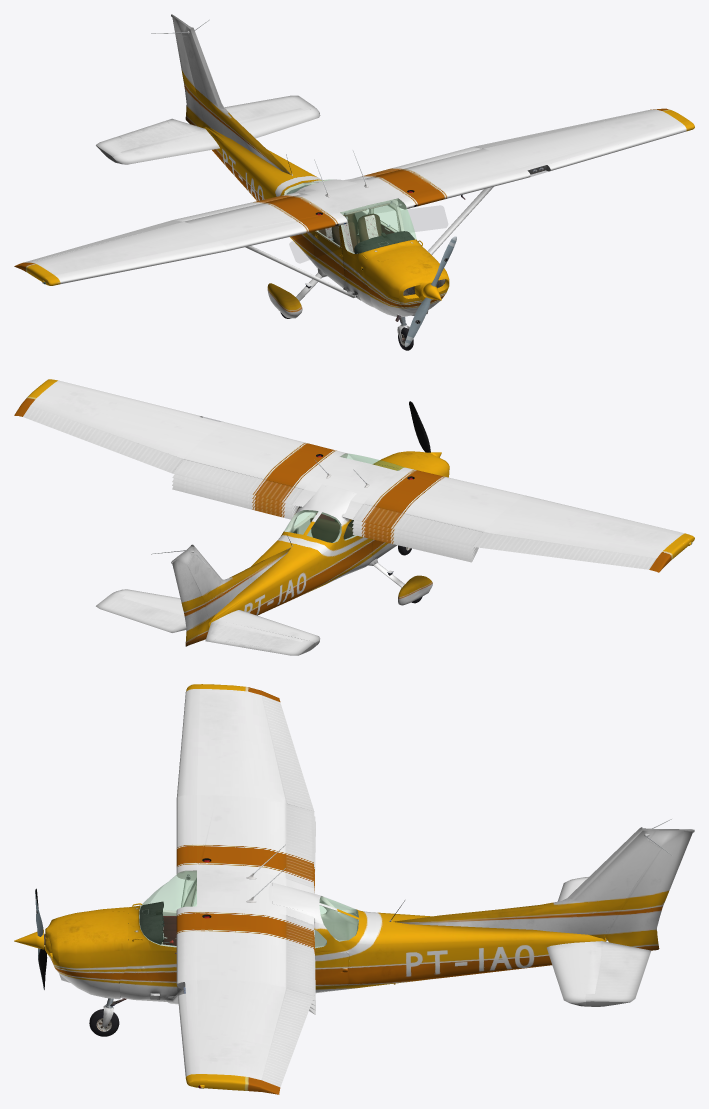
The model's file is PT-IAO_HD_livery.gltf.
3 views of the same model, one above another, from view 1: azimuth 30°, elevation 25°; view 2: azimuth 150°, elevation 25°; view 3: azimuth 270°, elevation 25° (orthographic). The views are drawn at different scales.
Visible parts, largest first — view 1: Exterior, XLive_6, XLive_0, XLive_5, Pose_flaps_0, XLive_8, XLive_9; view 2: Exterior, Pose_flaps_0, XLive_9, XLive_8, XLive_0, XLive_5, XLive_6, Pose_flaps_1, Pose_flaps_2, Pose_flaps_3, Pose_flaps_4; view 3: Exterior, XLive_0, Pose_flaps_0, XLive_5, XLive_8, XLive_9.
Part boxes in pixels (x1=…): Exterior: x1=14, y1=19, x2=694, y2=350; XLive_6: x1=96, y1=118, x2=203, y2=160; XLive_0: x1=171, y1=14, x2=204, y2=128; XLive_5: x1=224, y1=95, x2=315, y2=120; Pose_flaps_0: x1=173, y1=147, x2=482, y2=221; XLive_8: x1=473, y1=109, x2=655, y2=148; XLive_9: x1=24, y1=220, x2=183, y2=262; Exterior: x1=14, y1=379, x2=694, y2=646; Pose_flaps_0: x1=173, y1=459, x2=482, y2=546; XLive_9: x1=472, y1=532, x2=656, y2=569; XLive_8: x1=23, y1=406, x2=183, y2=473; XLive_0: x1=171, y1=549, x2=209, y2=646; XLive_5: x1=96, y1=592, x2=186, y2=632; XLive_6: x1=205, y1=623, x2=315, y2=655; Pose_flaps_1: x1=172, y1=474, x2=474, y2=550; Pose_flaps_2: x1=172, y1=478, x2=476, y2=554; Pose_flaps_3: x1=172, y1=482, x2=477, y2=558; Pose_flaps_4: x1=172, y1=486, x2=478, y2=562; Exterior: x1=14, y1=684, x2=671, y2=1094; XLive_0: x1=604, y1=829, x2=694, y2=950; Pose_flaps_0: x1=286, y1=803, x2=314, y2=995; XLive_5: x1=586, y1=941, x2=650, y2=1006; XLive_8: x1=261, y1=988, x2=314, y2=1087; XLive_9: x1=261, y1=695, x2=314, y2=811.
Bounding box in the file's own units: 11.32 × 2.77 × 8.17.
Materials: 145 (135 with a texture image).
